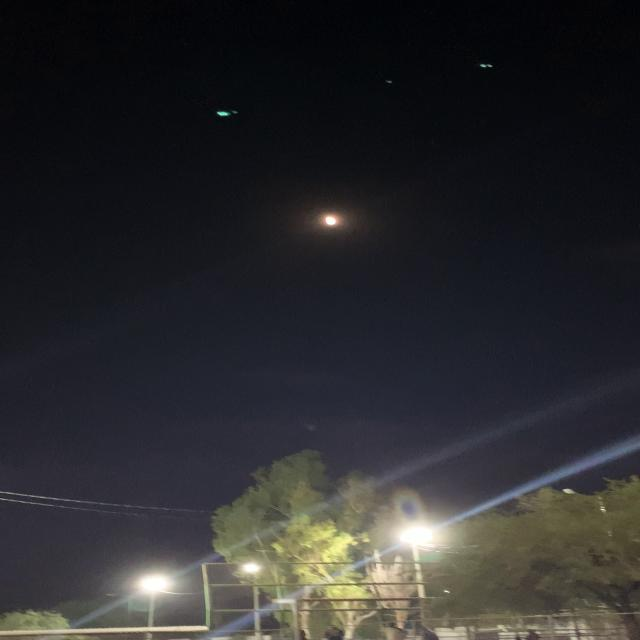moon: (308, 207, 364, 234)
